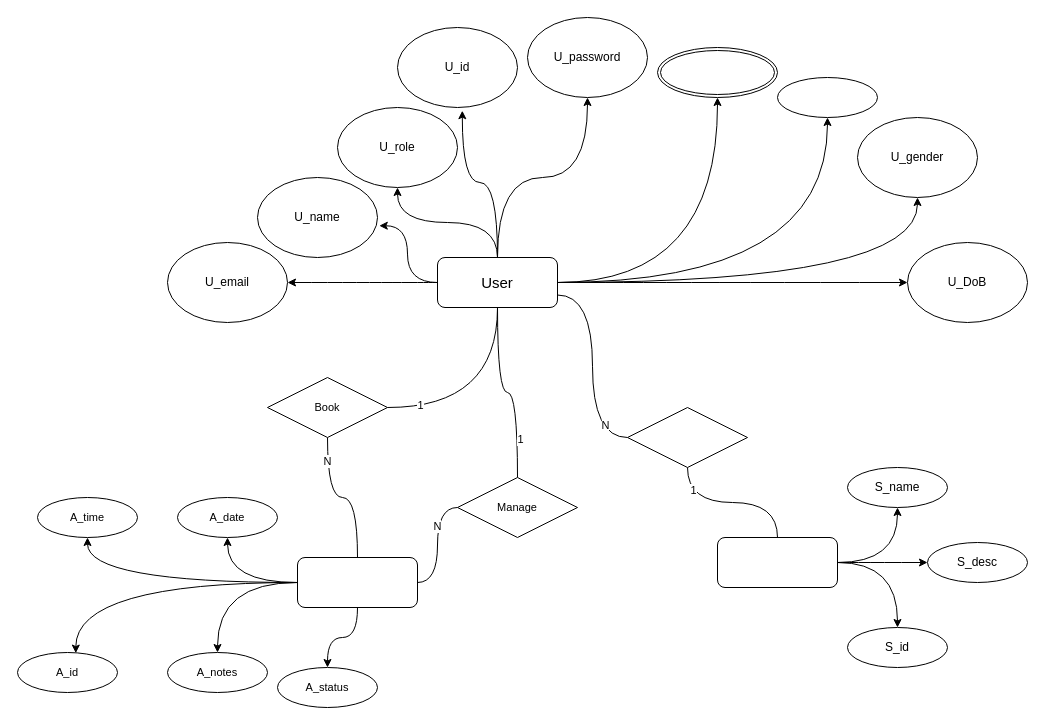
Some shapes in this 1045 by 725 pixel diagram are drawn without their labels. The centre of each missing label's shape, as x and y in pixels:
"Appointments" belongs at pixel 357 582.
"Has" belongs at pixel 687 437.
"specialty" belongs at pixel 777 562.
"U_Desc" belongs at pixel 827 97.
"u_phone_number" belongs at pixel 717 72.
